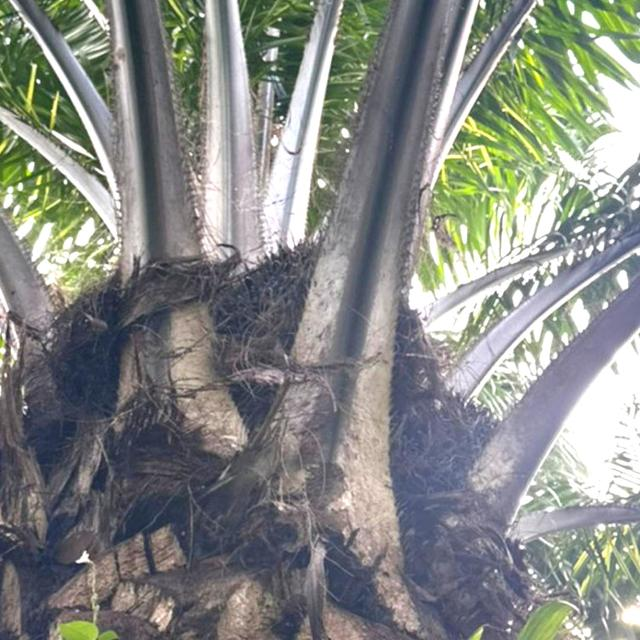almost: (230, 240, 432, 437), (390, 385, 506, 535)
